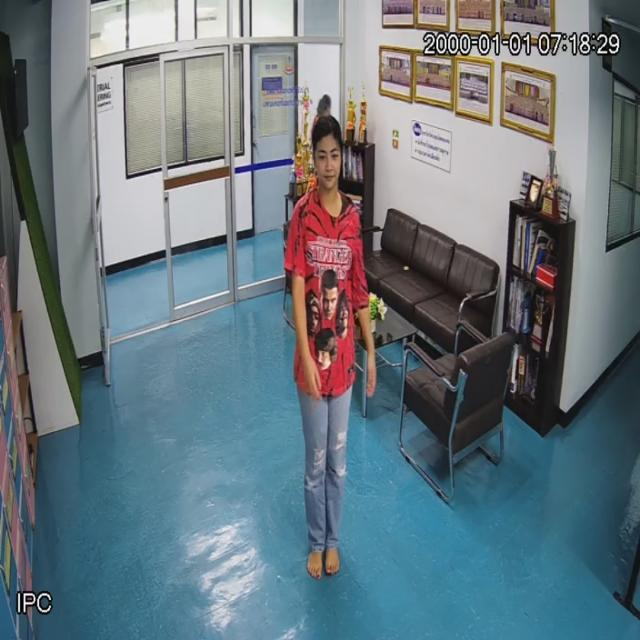normal: (288, 113, 365, 573)
